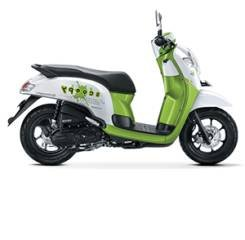motor: (13, 22, 240, 167)
